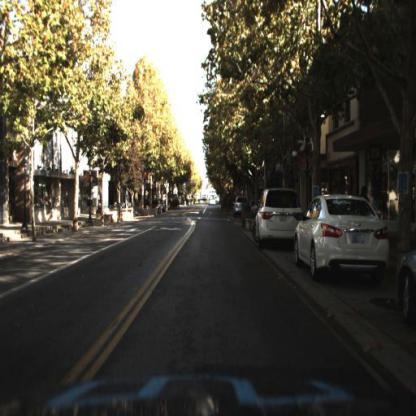car: (294, 192, 392, 280), (254, 185, 303, 249), (396, 245, 416, 326), (233, 194, 248, 223)
